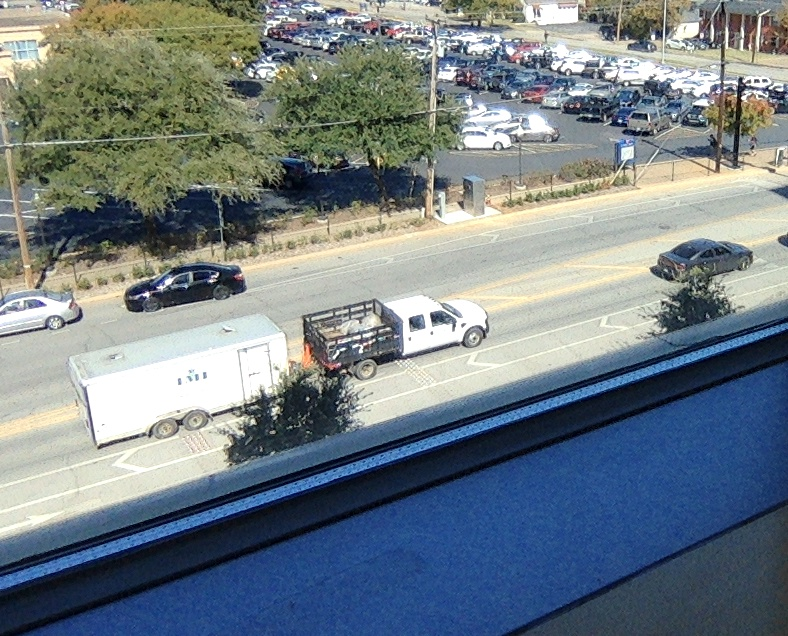car: (300, 300, 488, 380)
